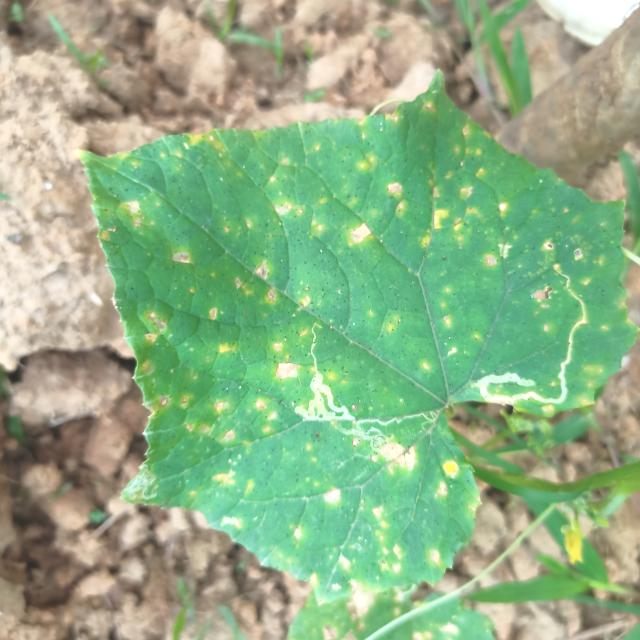disease_cucumber: (115, 119, 606, 578)
